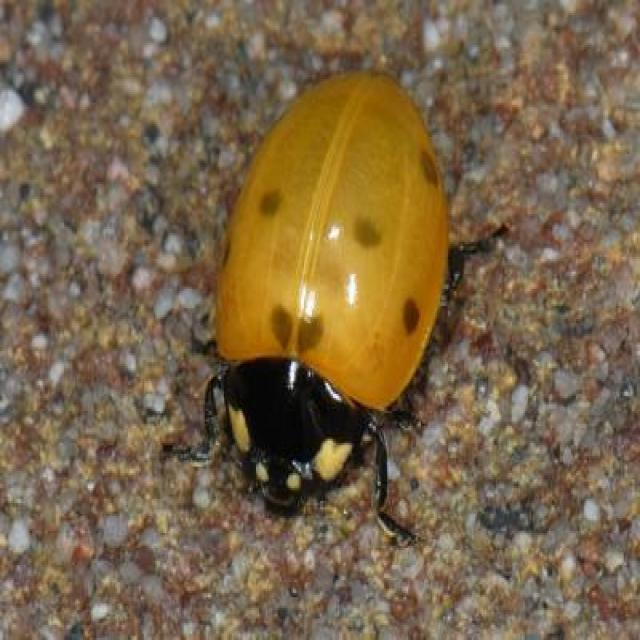body: (218, 70, 445, 510)
insect: (162, 69, 508, 551)
legs: (435, 181, 511, 323), (362, 416, 436, 550), (163, 355, 230, 490)
wings: (214, 70, 446, 411)
